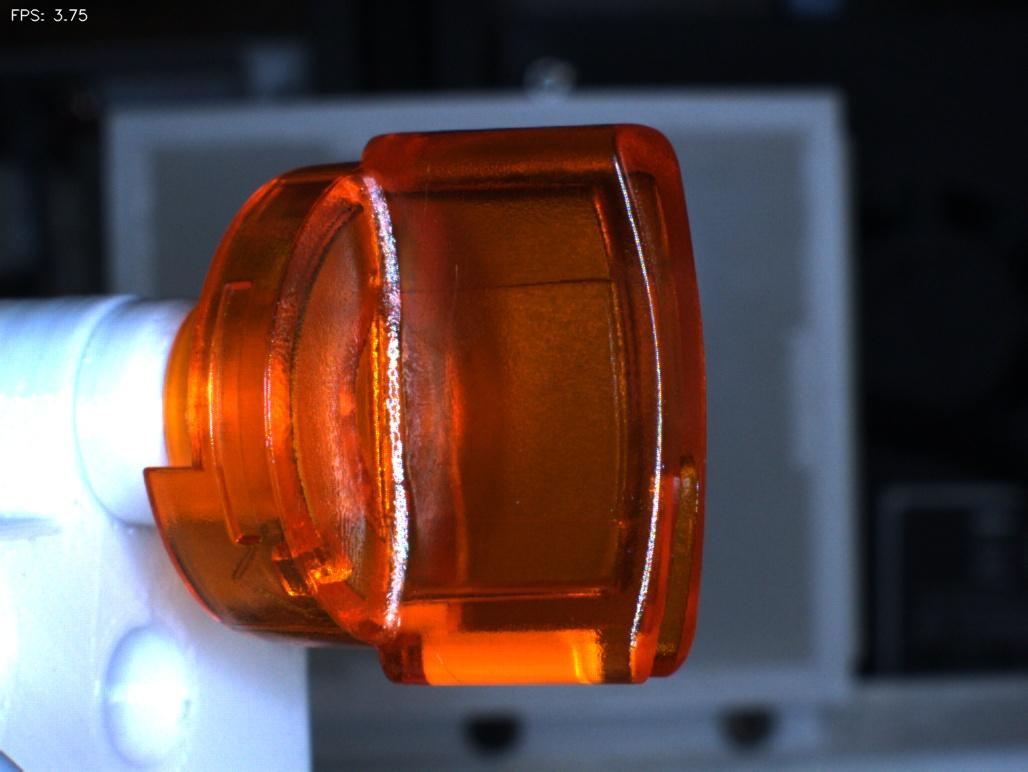Givrage: (405, 231, 516, 449)
